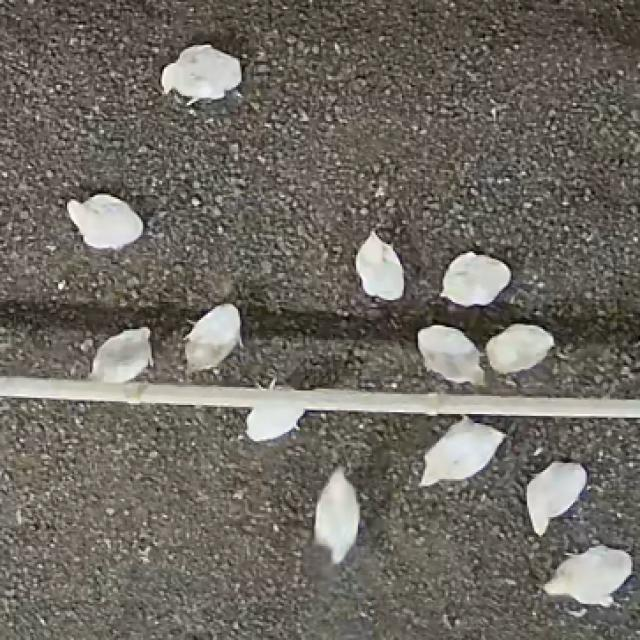broiler: (420, 416, 504, 485), (543, 546, 631, 606), (162, 43, 240, 103), (525, 461, 585, 535), (314, 466, 358, 562), (69, 193, 141, 249), (183, 304, 240, 372), (441, 251, 510, 306), (418, 325, 481, 383), (88, 327, 152, 381), (354, 231, 404, 298), (485, 324, 554, 372), (249, 401, 303, 439)
pipe: (0, 376, 638, 416)
